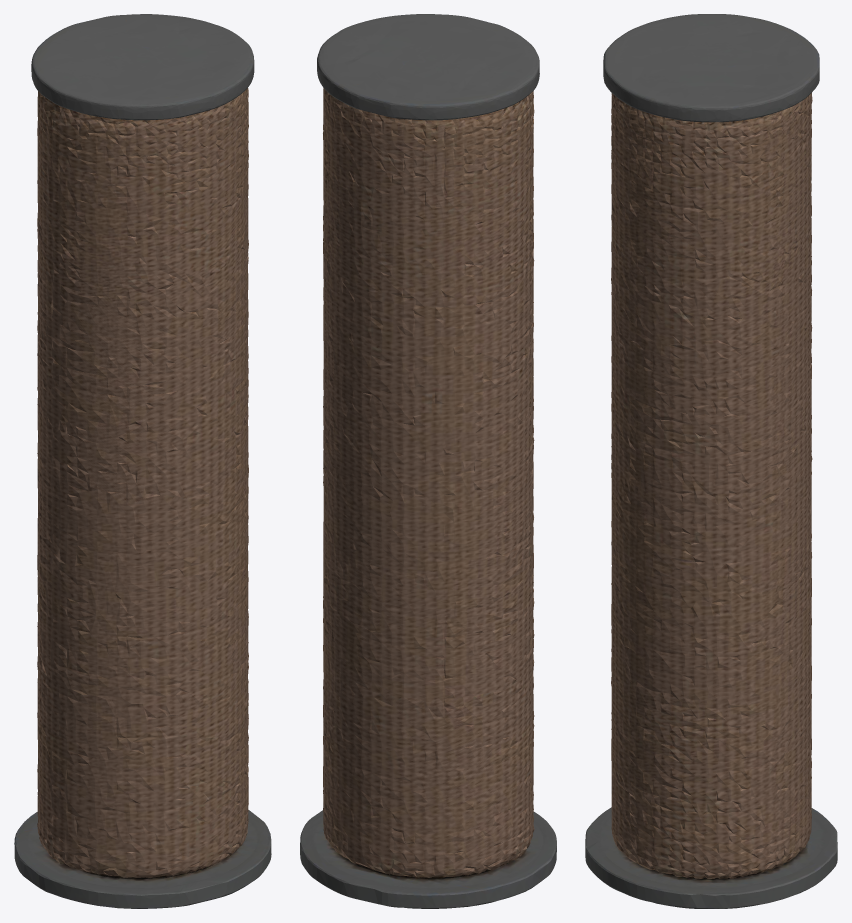
The model's file is ktochka_1.glb.
3 renders of one model, left to right at view 1: azimuth 30°, elevation 25°; view 2: azimuth 150°, elevation 25°; view 3: azimuth 270°, elevation 25°, orthographic.
Parts seen in each view (by area): view 1: tripo_node_5c90c185-258e-4c0d-8286-75e4df10e890; view 2: tripo_node_5c90c185-258e-4c0d-8286-75e4df10e890; view 3: tripo_node_5c90c185-258e-4c0d-8286-75e4df10e890.
Part boxes in pixels (x1=…): tripo_node_5c90c185-258e-4c0d-8286-75e4df10e890: x1=14, y1=14, x2=271, y2=908; tripo_node_5c90c185-258e-4c0d-8286-75e4df10e890: x1=300, y1=14, x2=556, y2=908; tripo_node_5c90c185-258e-4c0d-8286-75e4df10e890: x1=585, y1=14, x2=837, y2=908.
Size of the model in its own units: 0.294 by 1 by 0.2876.
1 material, 1 textured.
